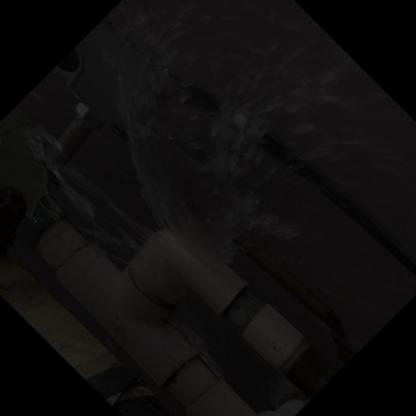burst: (132, 202, 245, 289)
